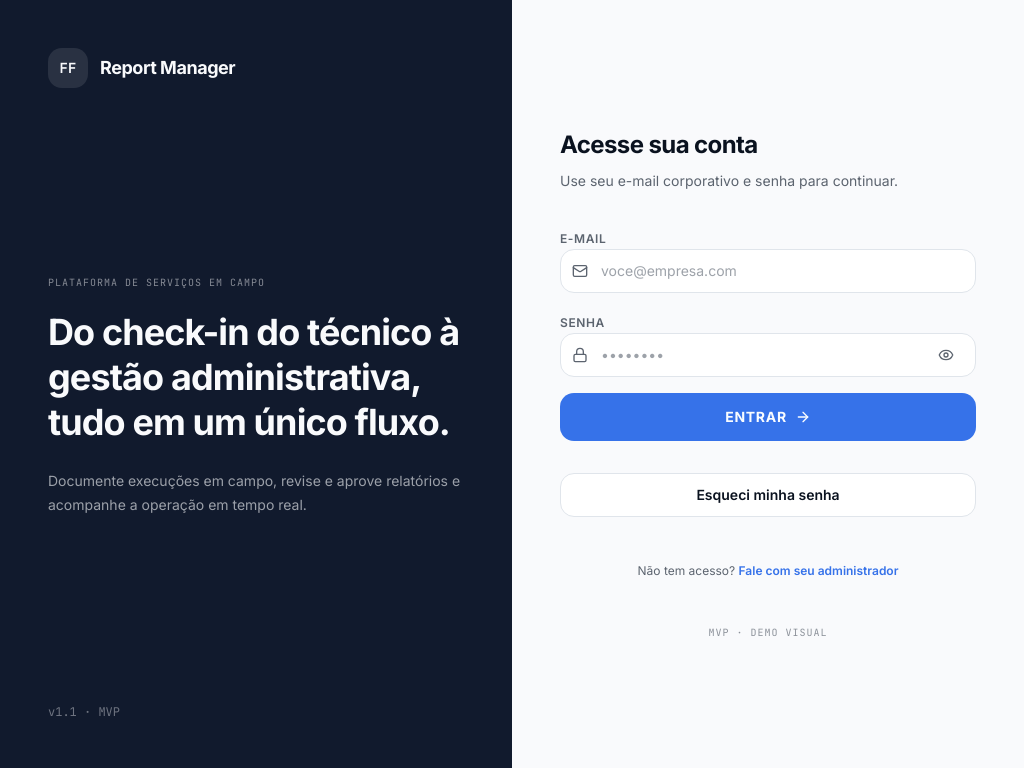
Test: App › signs a technician in and opens the dashboard
Type "tecnico@fieldflow.local" into the field labelled "E-mail" at (768, 270), box [560,248,976,292]
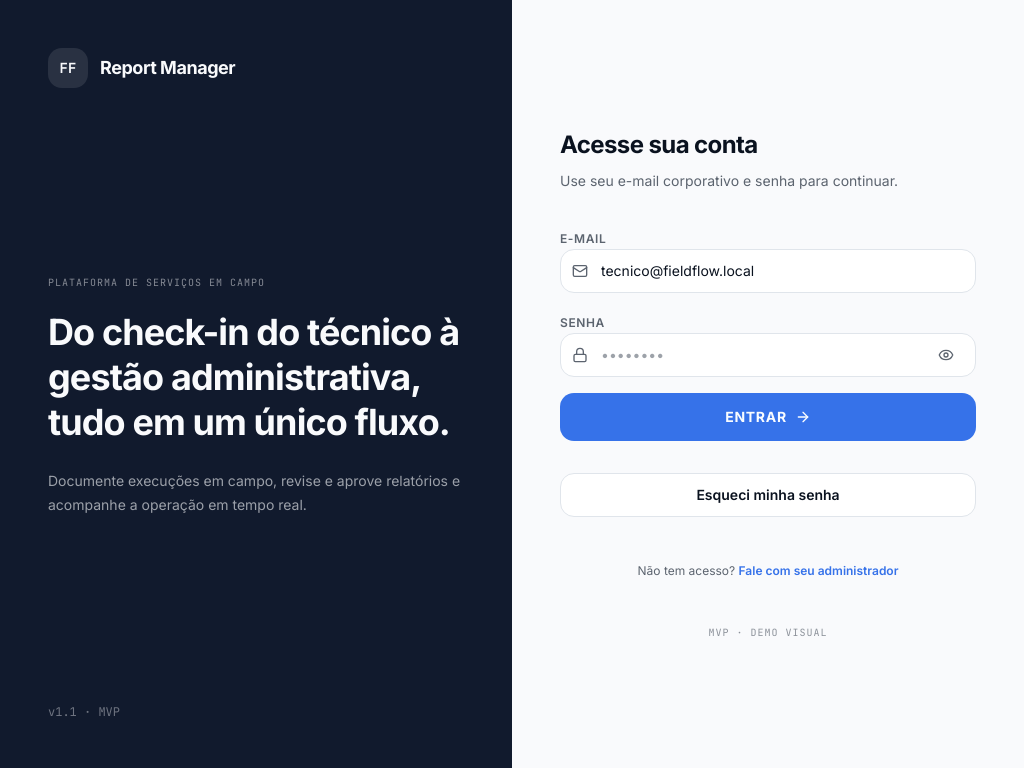
Type "tecnico123" into the password field labelled "Senha" at (768, 354), box [560,332,976,376]
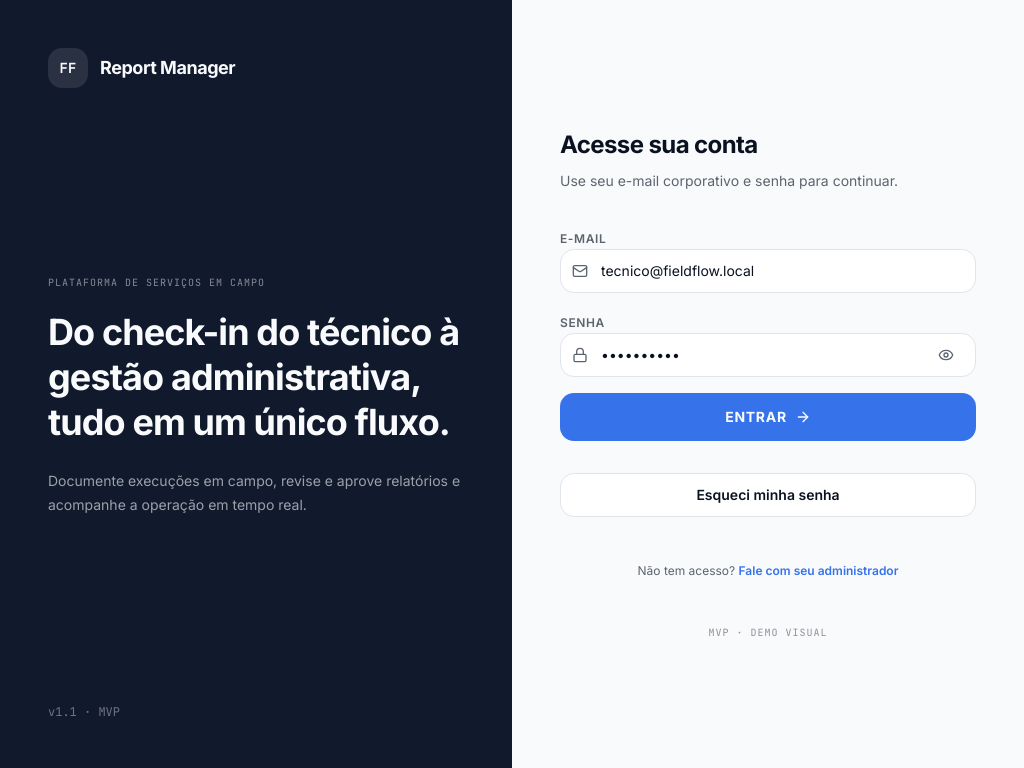
Click the button "Entrar" at (768, 416), box [560,392,976,440]
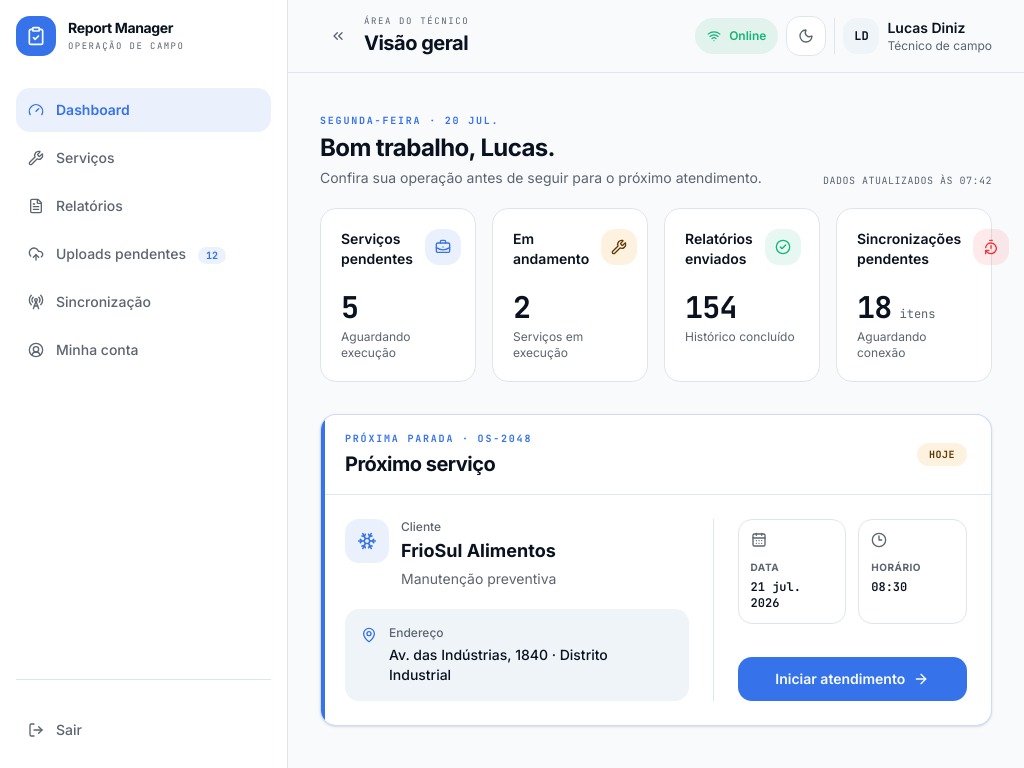
expect the heading "Visão geral" is shown: met, box [364,29,469,57]
